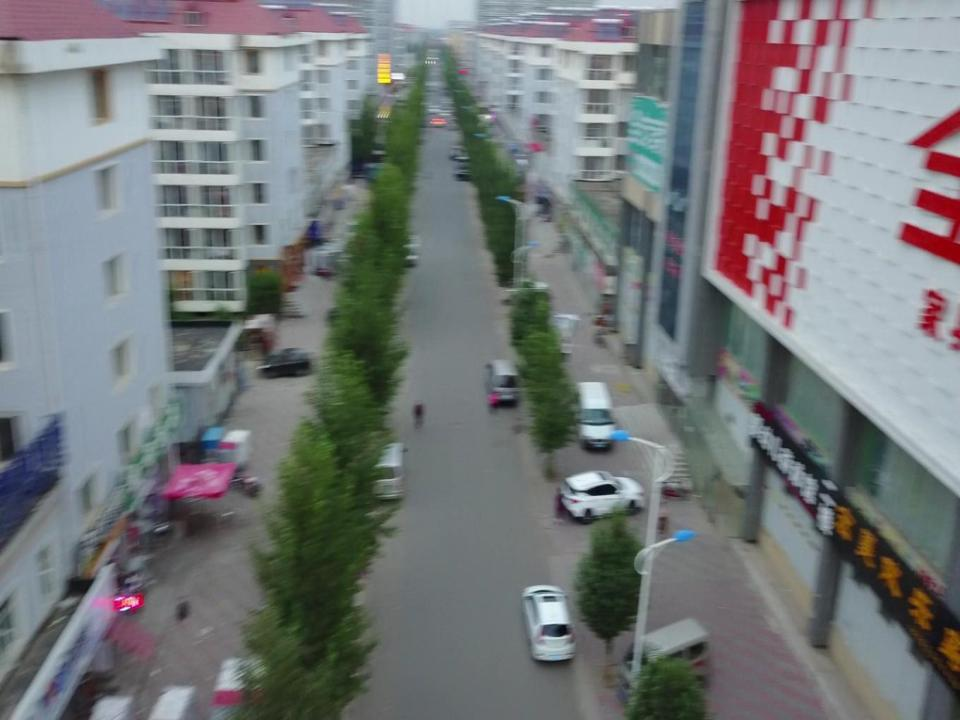car: (518, 582, 575, 666), (562, 470, 644, 522), (574, 377, 614, 452), (326, 301, 389, 336), (483, 358, 522, 408), (258, 346, 318, 378), (498, 278, 550, 306), (400, 236, 420, 266), (456, 165, 474, 186), (429, 118, 446, 130), (443, 108, 456, 121), (447, 118, 459, 130), (426, 83, 438, 95), (427, 104, 440, 115), (440, 82, 450, 95), (440, 98, 452, 108)
van: (616, 619, 709, 711), (364, 441, 408, 502), (551, 310, 579, 356)
